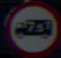Heavy Vehicles: (6, 2, 58, 54)
